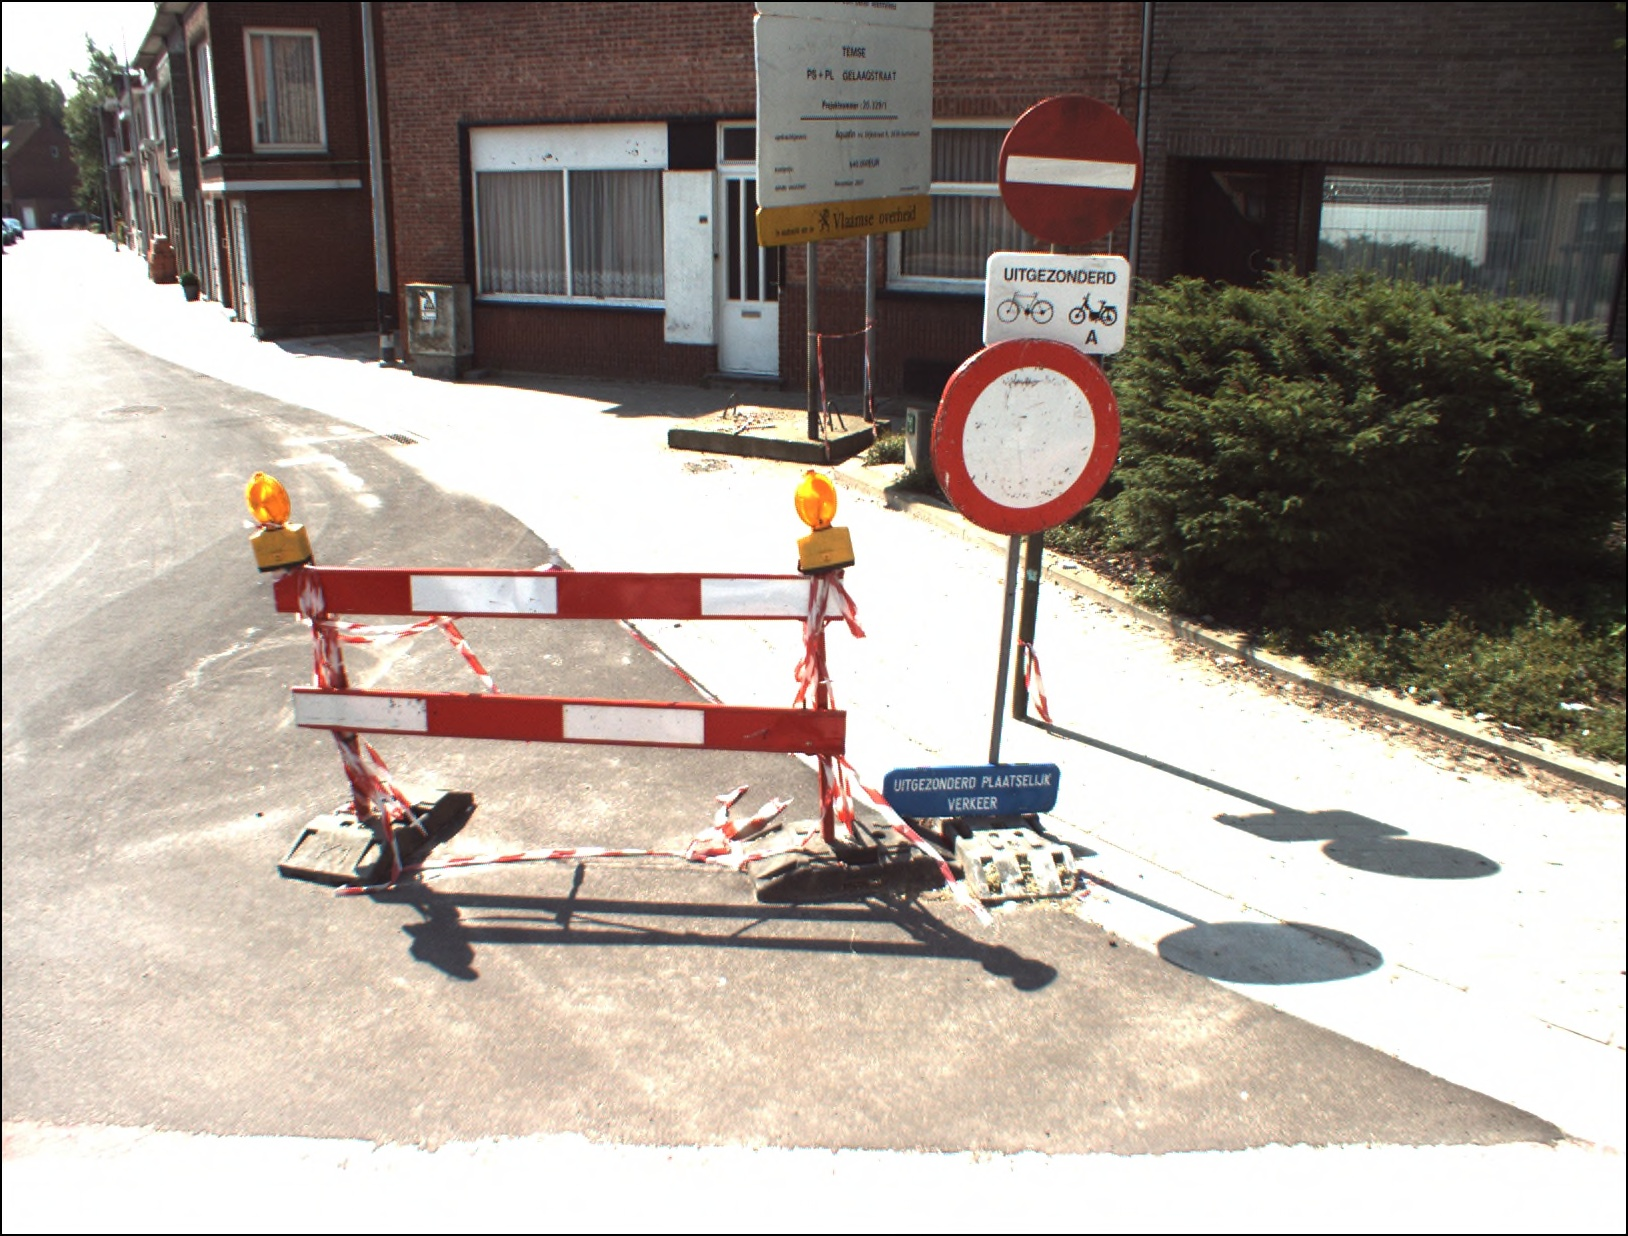forbidden: (939, 341, 1123, 531)
noentry: (1002, 92, 1142, 244)
